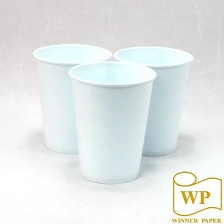paper_cup: (65, 58, 159, 187), (27, 39, 114, 156), (114, 41, 196, 160)
